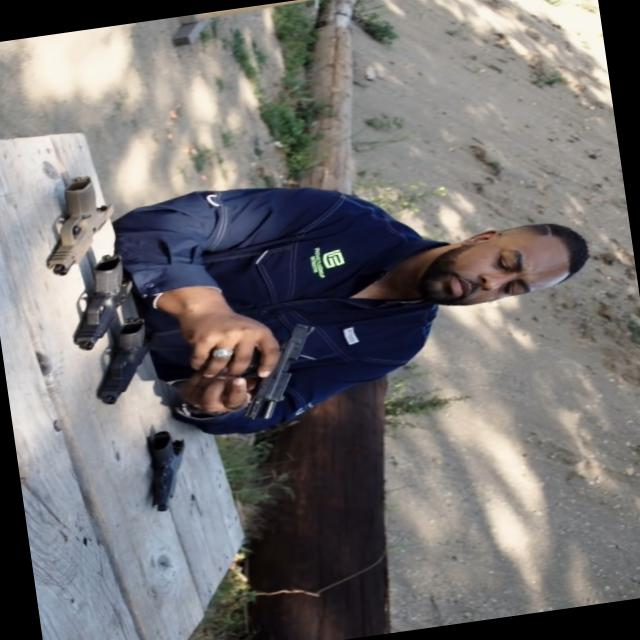handgun: (13, 166, 132, 284), (219, 317, 333, 425), (114, 422, 213, 522), (54, 252, 151, 352), (79, 312, 172, 408)
